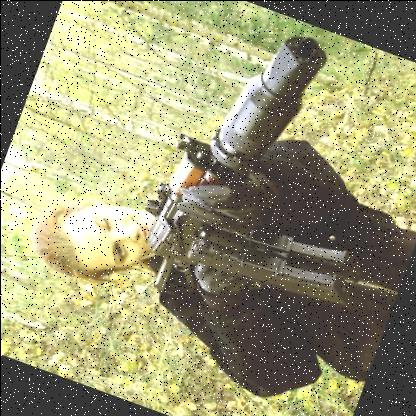rifle: (108, 0, 388, 343)
